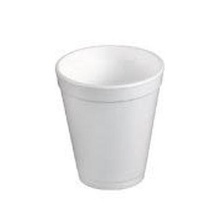paper_cup: (50, 39, 168, 194)
